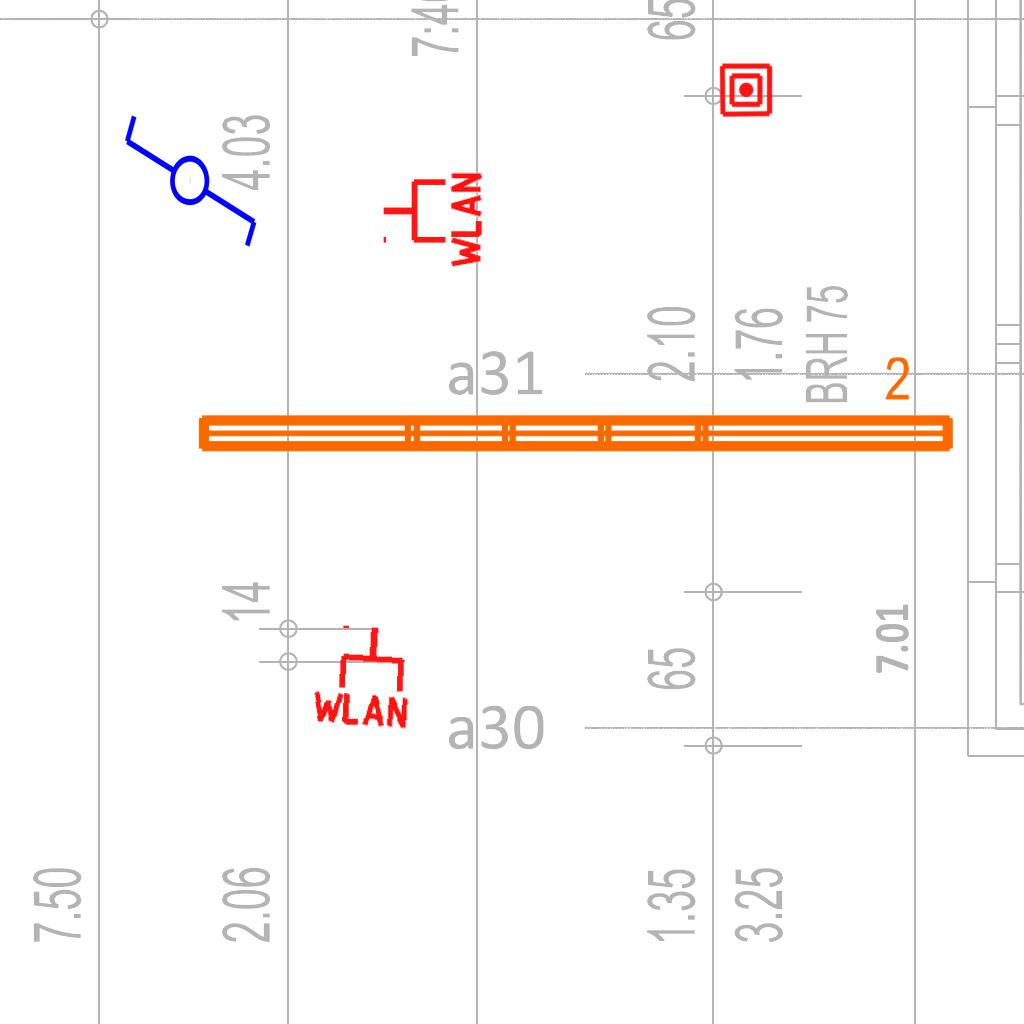Ambulanz_Pendelleuchte_LED: (188, 352, 962, 464)
NAM-Nichtautomatischer_Melder: (718, 62, 774, 118)
WLAN: (306, 619, 419, 731), (379, 168, 484, 272)
Wechselschalter: (120, 94, 264, 251)
